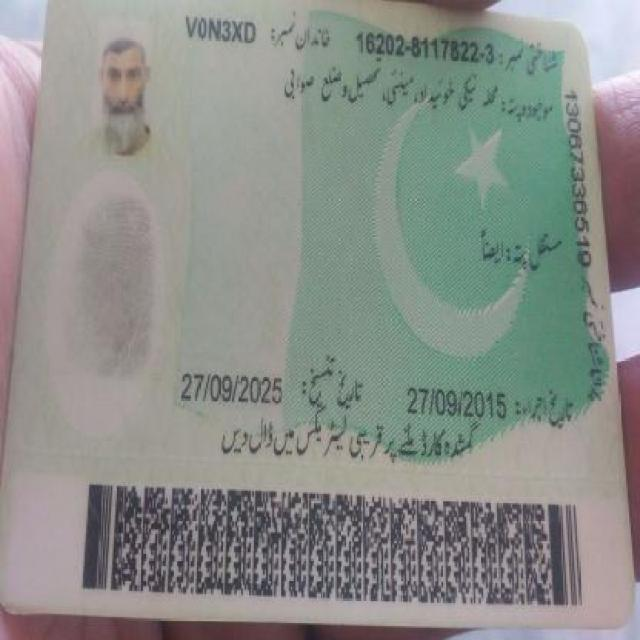Back: (18, 11, 620, 612)
